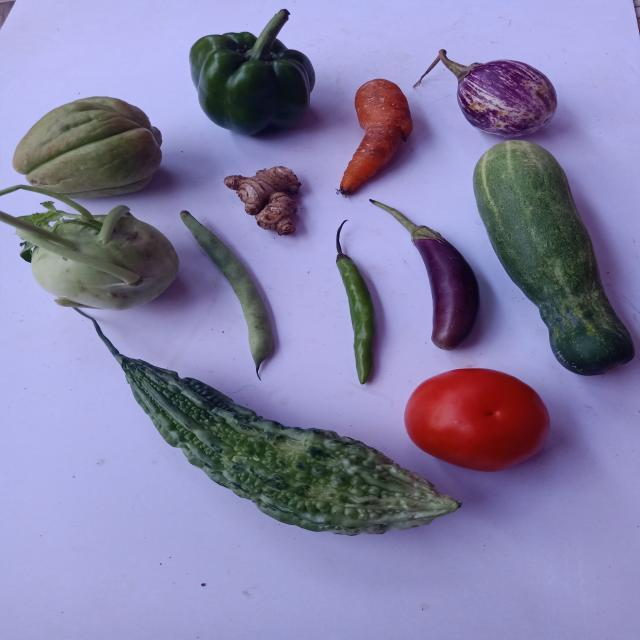Beans: (180, 210, 272, 379)
Bitter Gourd: (76, 310, 461, 536)
Brinjal: (372, 198, 480, 353), (371, 200, 479, 350), (414, 239, 479, 350)
Capsicum: (189, 8, 315, 134)
Carrot: (337, 78, 413, 195)
Chayote: (12, 96, 161, 198)
Cucumber: (474, 140, 635, 376)
Eggplant: (457, 59, 557, 136)
Ginger: (223, 166, 301, 235)
Green Chilly: (336, 223, 375, 384)
Tomato: (405, 369, 550, 472)
Turnip: (0, 185, 178, 310)
